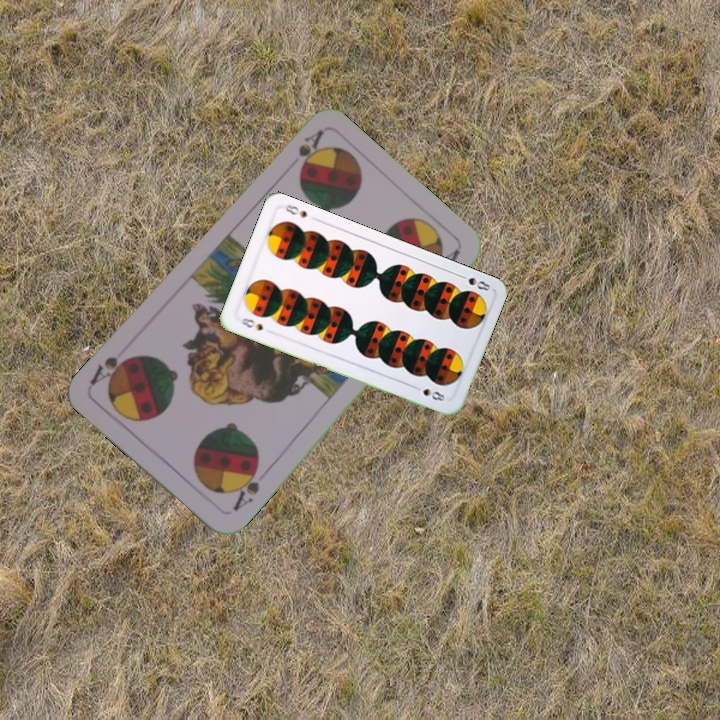S8: (454, 270, 493, 294), (237, 314, 265, 333)
SA: (228, 460, 262, 514), (294, 126, 326, 173)
